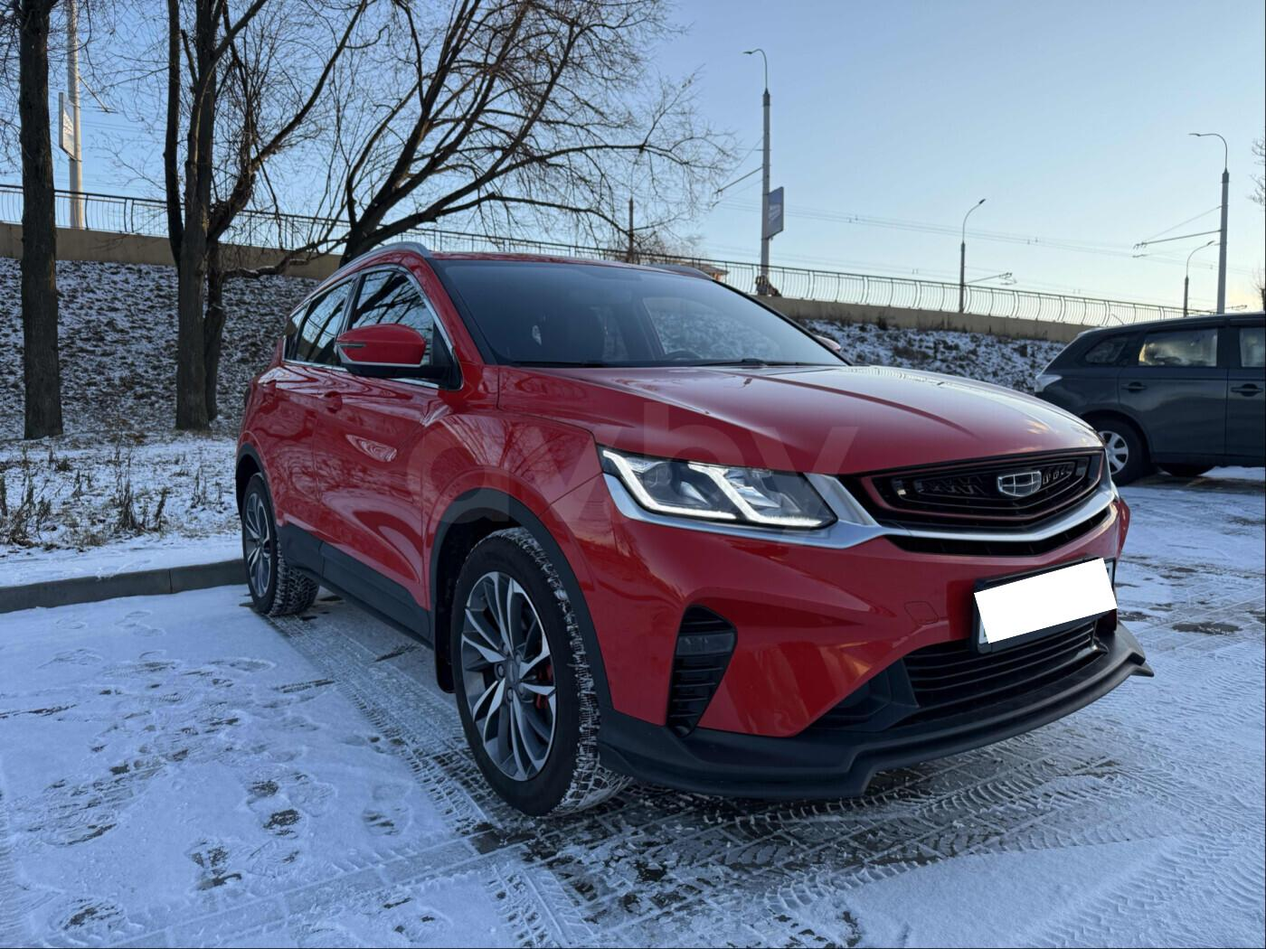Coolray_2019-2023: (233, 241, 1155, 828)
